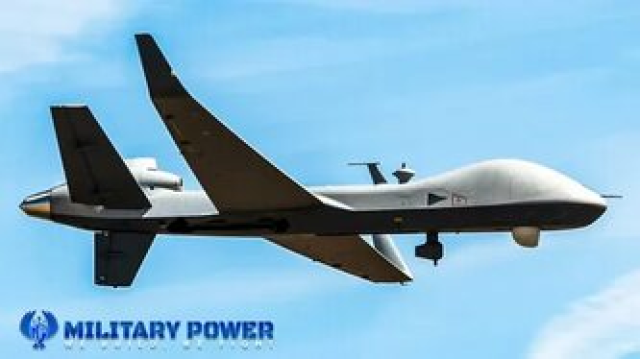military drone: (18, 33, 623, 288)
